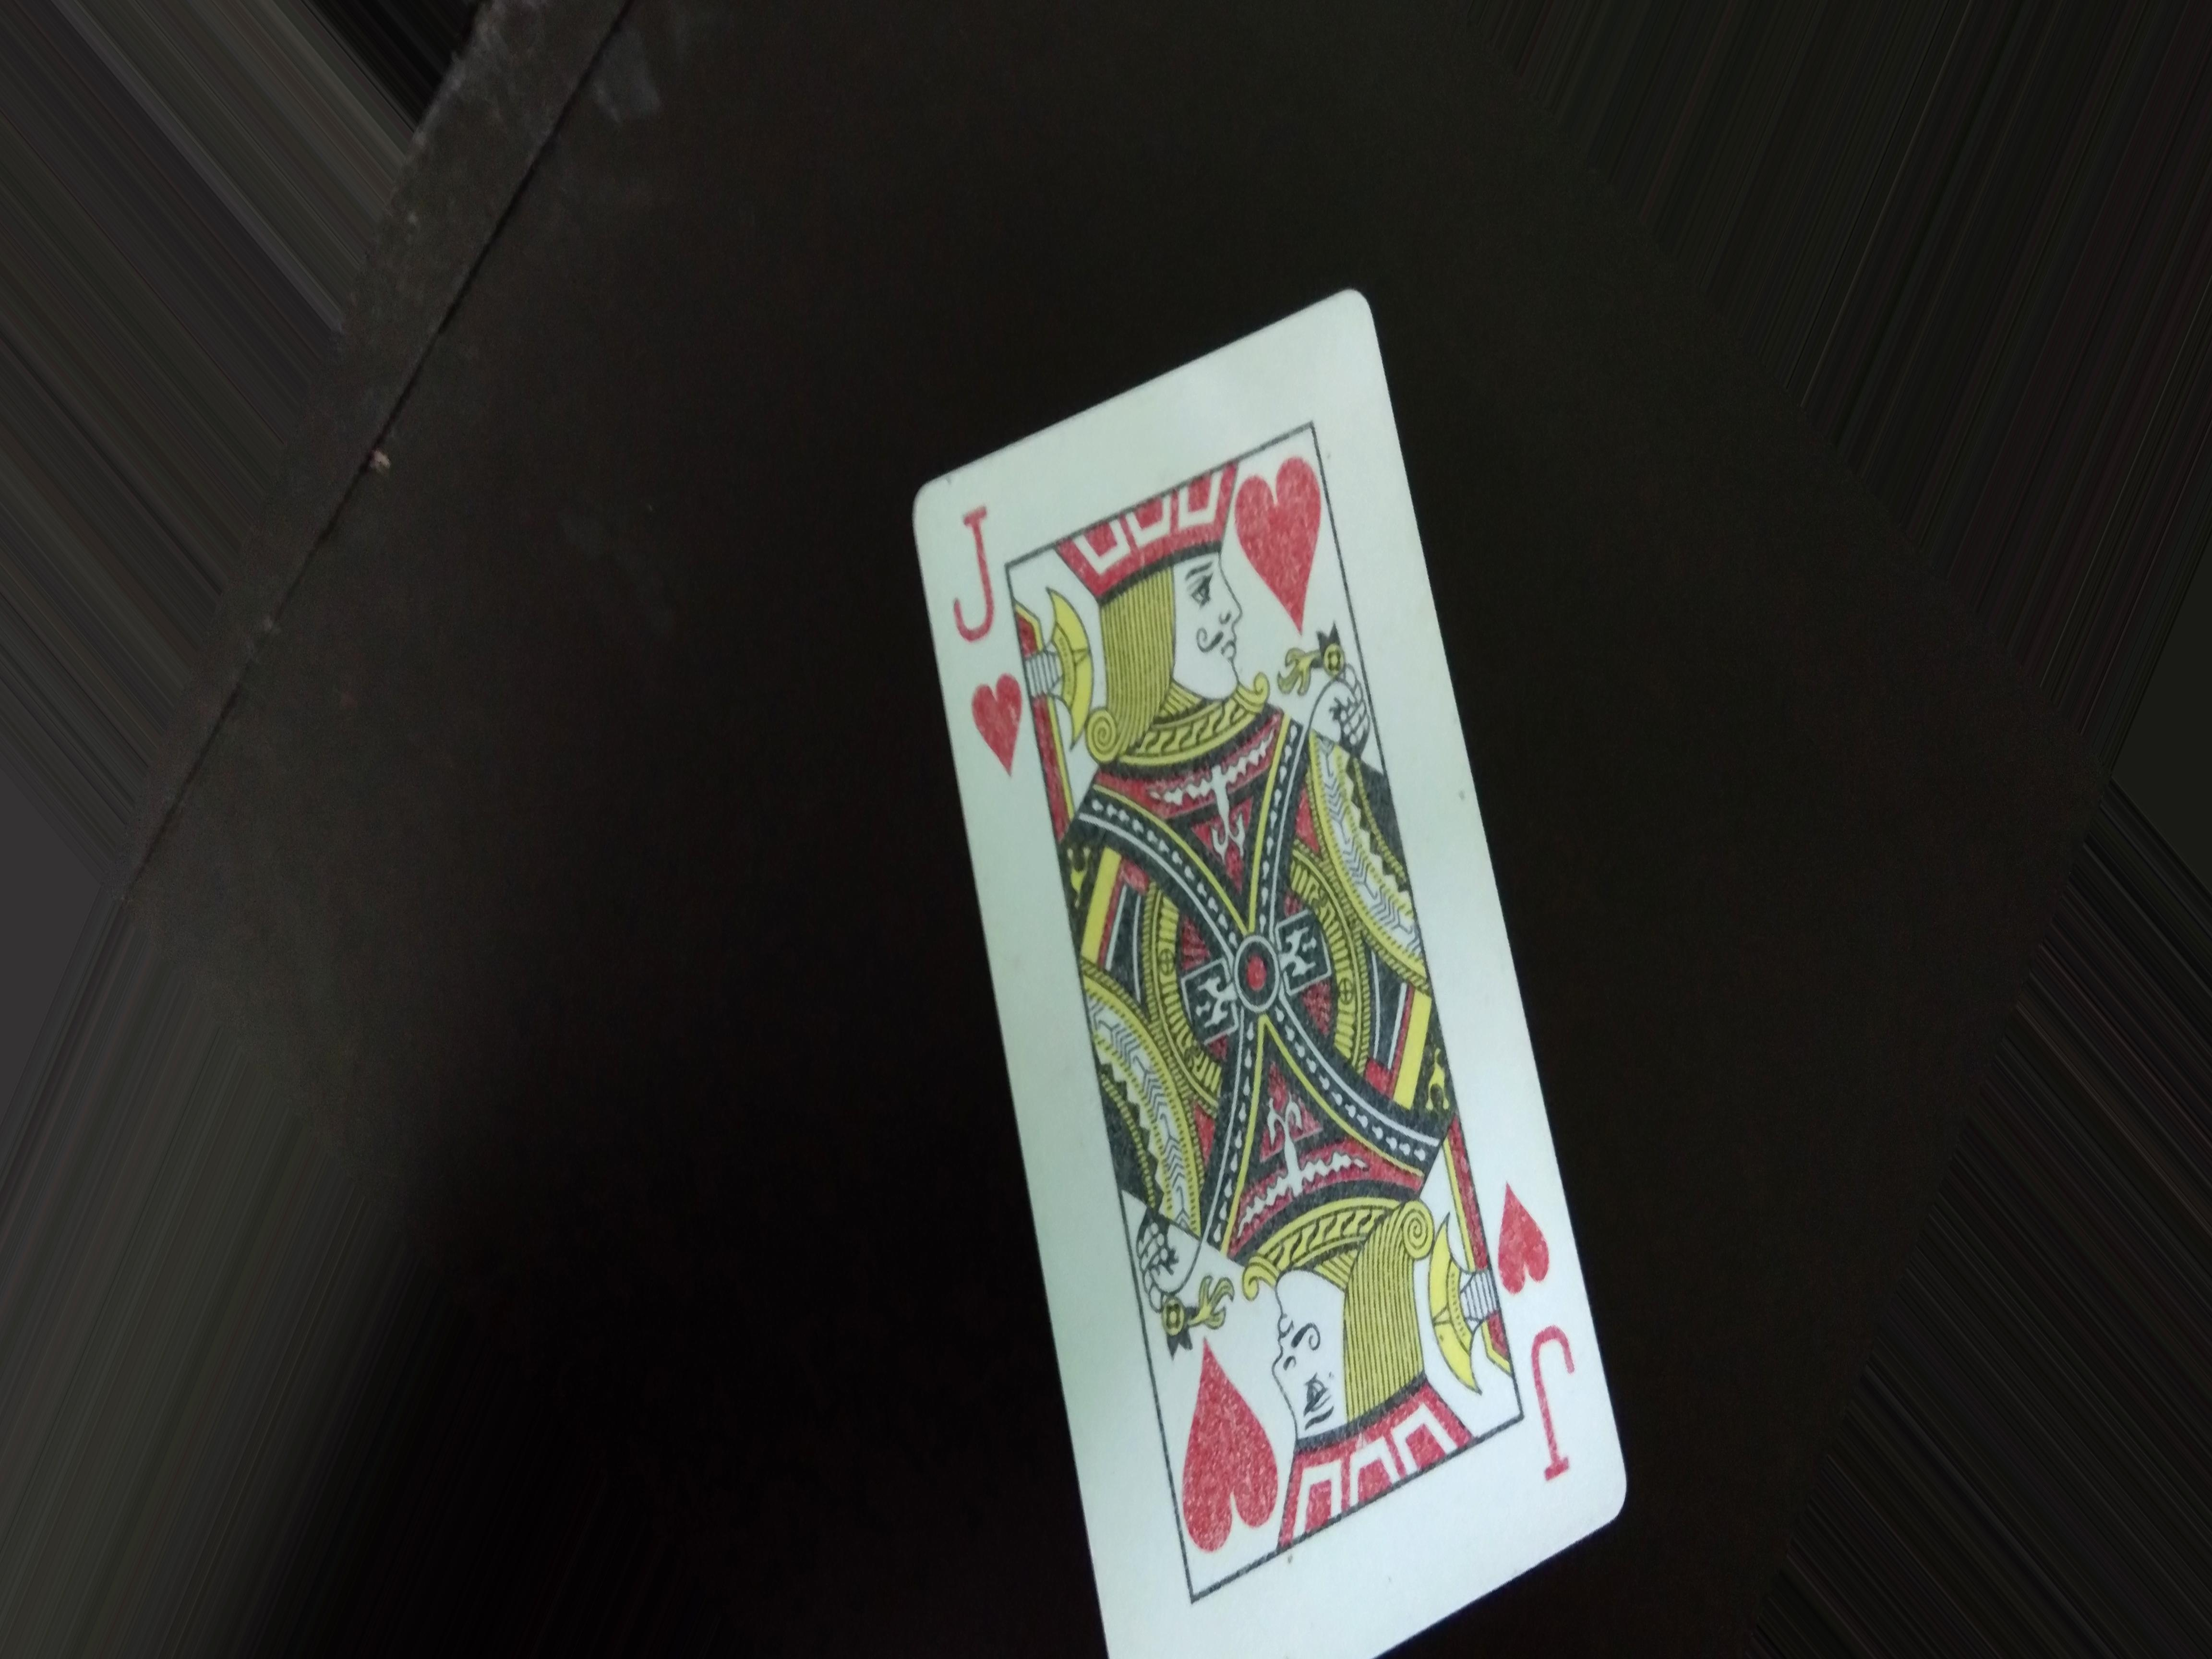JH: (954, 493, 1012, 800)
